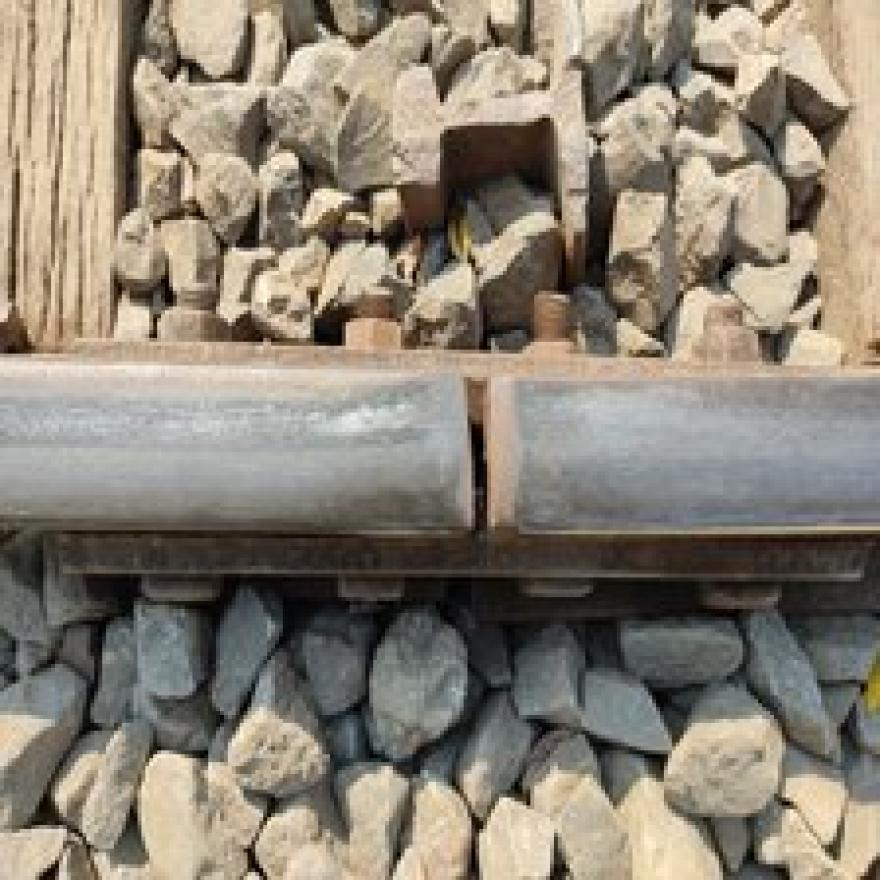railway-gap: (343, 325, 620, 585)
